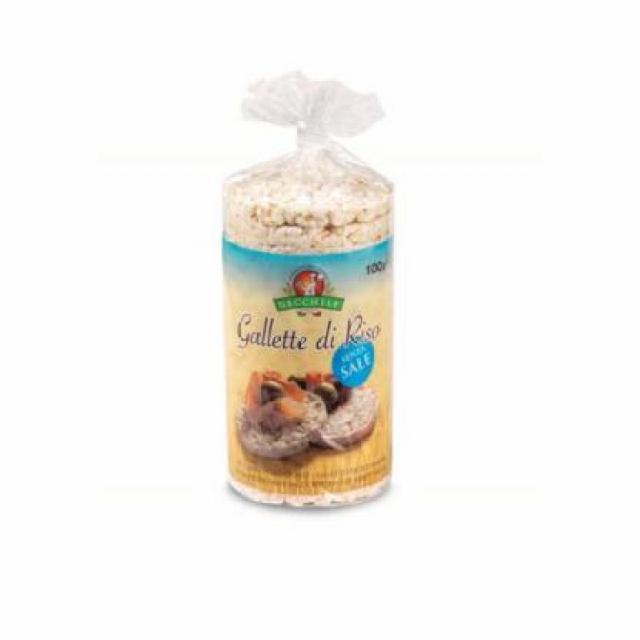Gallette di riso: (220, 74, 398, 510)
